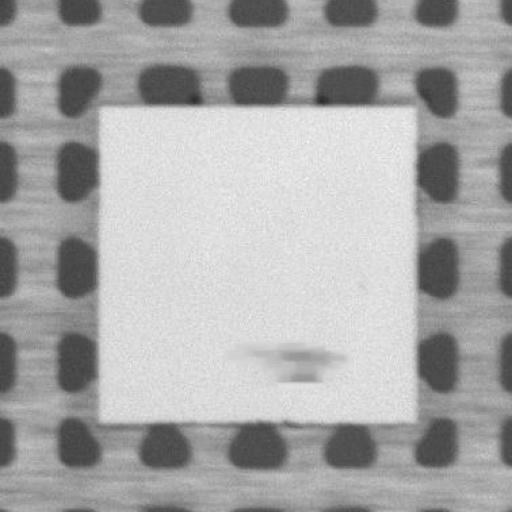DIE_INK: (244, 335, 340, 386)
